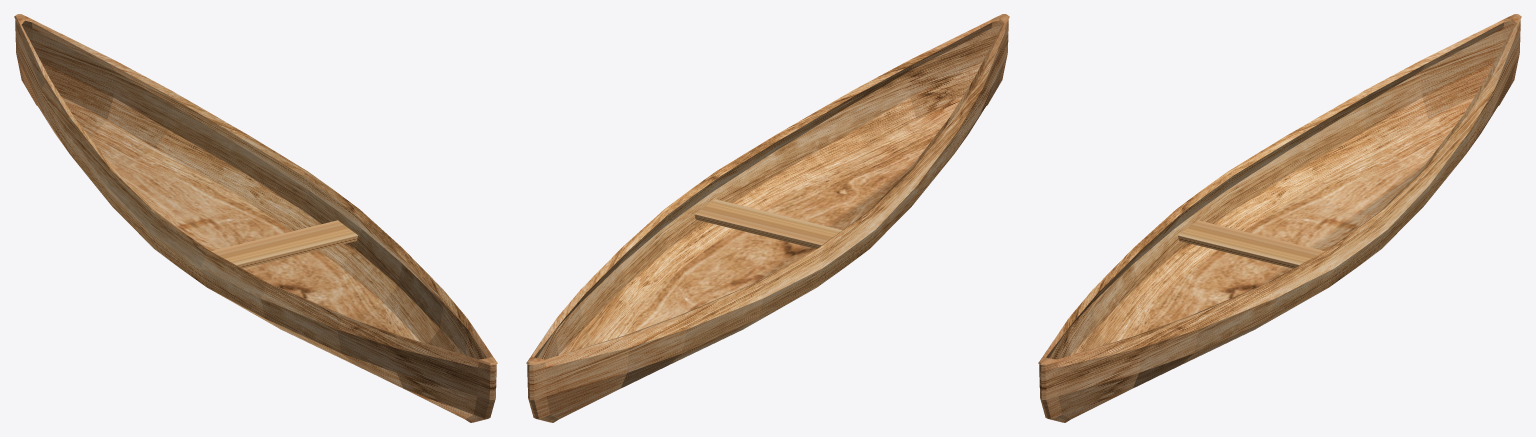
The model's file is boat.obj.
3 renders of one model, left to right at view 1: azimuth 30°, elevation 25°; view 2: azimuth 150°, elevation 25°; view 3: azimuth 330°, elevation 25°, orthographic.
Visible parts, largest first — view 1: boat:Mesh; view 2: boat:Mesh; view 3: boat:Mesh.
Boxes of the visible parts, box(x1,y1,x2,y2) form: boat:Mesh: box(14, 14, 497, 422); boat:Mesh: box(526, 14, 1009, 422); boat:Mesh: box(1038, 14, 1521, 422).
Size of the model in its own units: 24.1 by 11.88 by 122.
1 material, 1 textured.
